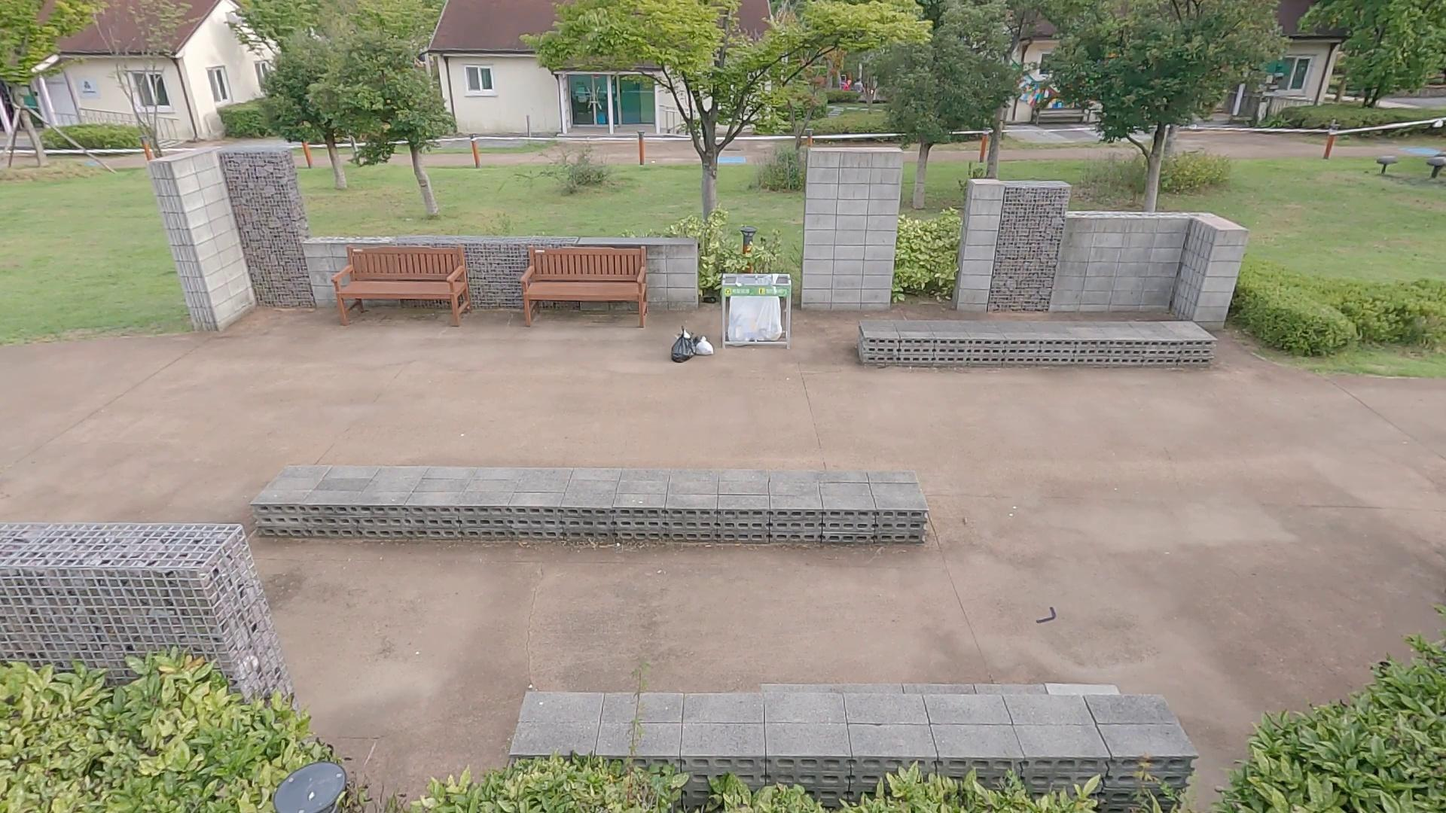trash: (671, 326, 696, 363), (694, 335, 713, 356), (671, 328, 693, 340)
